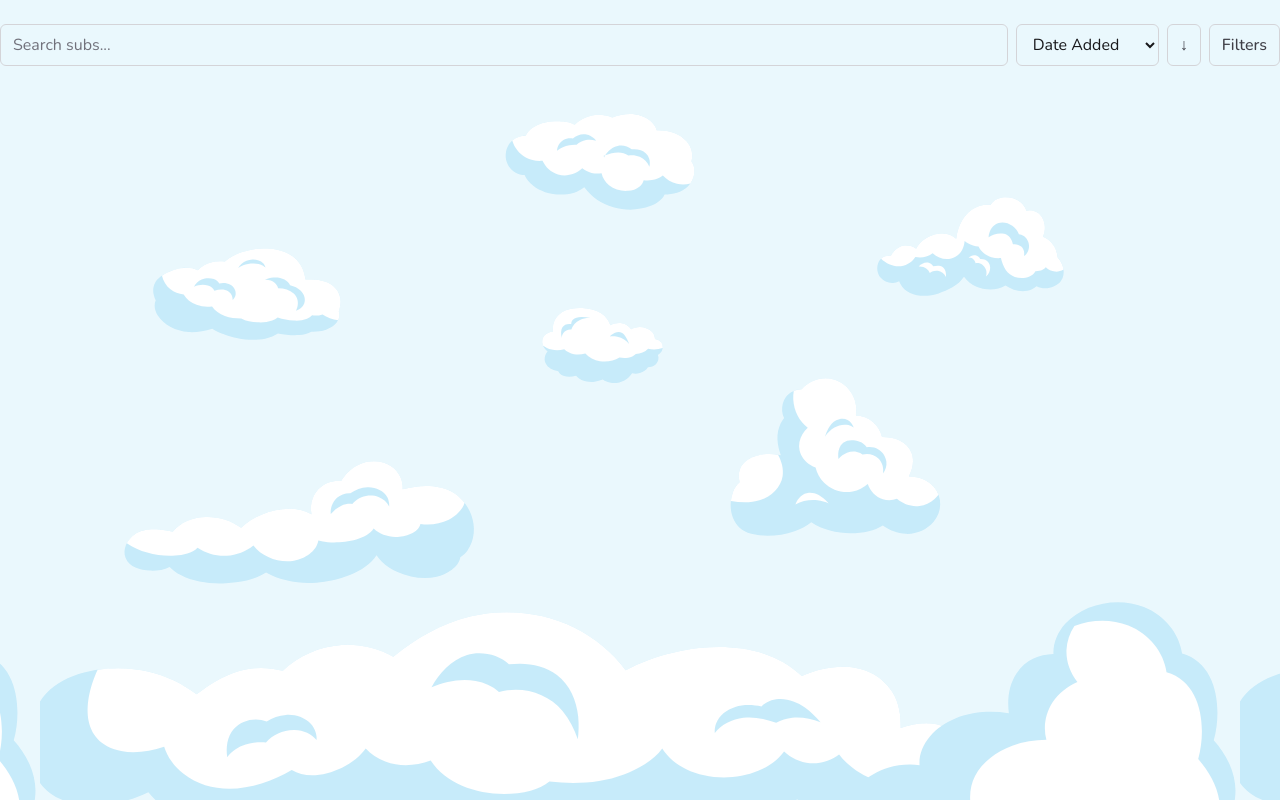
Test: SubsFilters › shows filter panel when Filters button is clicked
What coordinates should you click on to do the following:
click the button named "Toggle filters"
I would click on:
 (1244, 45)
Its box is [1209,24,1279,66].
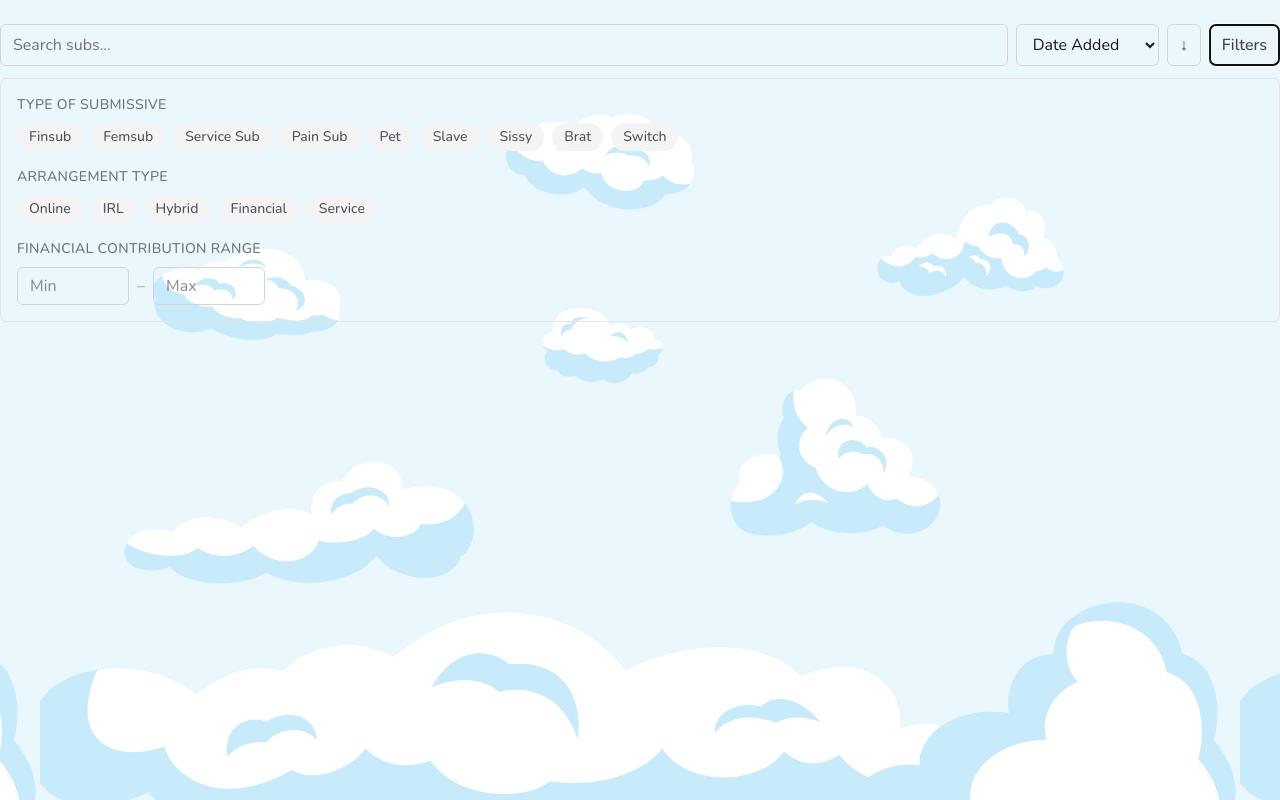
Expected: the text "Type of Submissive" is shown, [17,95,167,115]
Expected: the text "Arrangement Type" is shown, [17,167,168,187]
Expected: the text "Financial Contribution Range" is shown, [17,239,261,259]
